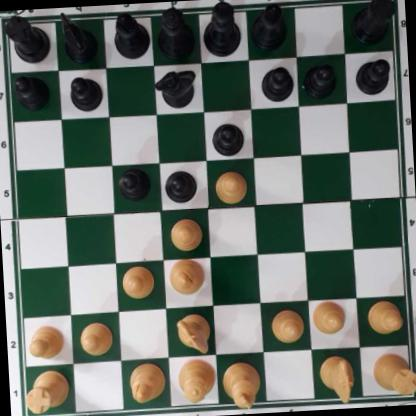black-bishop: (249, 0, 288, 52), (112, 10, 150, 59)
black-king: (200, 0, 242, 61)
black-knight: (60, 9, 98, 64), (156, 68, 195, 109)
black-pawn: (354, 57, 391, 96), (210, 119, 246, 157), (14, 74, 50, 112), (67, 73, 101, 112), (303, 62, 337, 98), (260, 66, 294, 102), (117, 166, 151, 201), (164, 169, 198, 202)
black-queen: (156, 5, 197, 59)
black-rook: (3, 13, 50, 62), (349, 0, 394, 45)
white-bishop: (127, 361, 165, 405), (168, 257, 205, 295)
white-king: (221, 357, 260, 409)
white-knight: (319, 352, 356, 405), (176, 311, 212, 355)
white-pawn: (25, 323, 66, 359), (366, 299, 404, 335), (213, 169, 249, 205), (78, 321, 114, 356), (269, 308, 305, 343), (311, 300, 346, 336), (120, 264, 155, 299), (169, 217, 202, 253)
white-queen: (176, 357, 216, 405)
white-rook: (23, 368, 70, 414), (371, 351, 416, 397)
